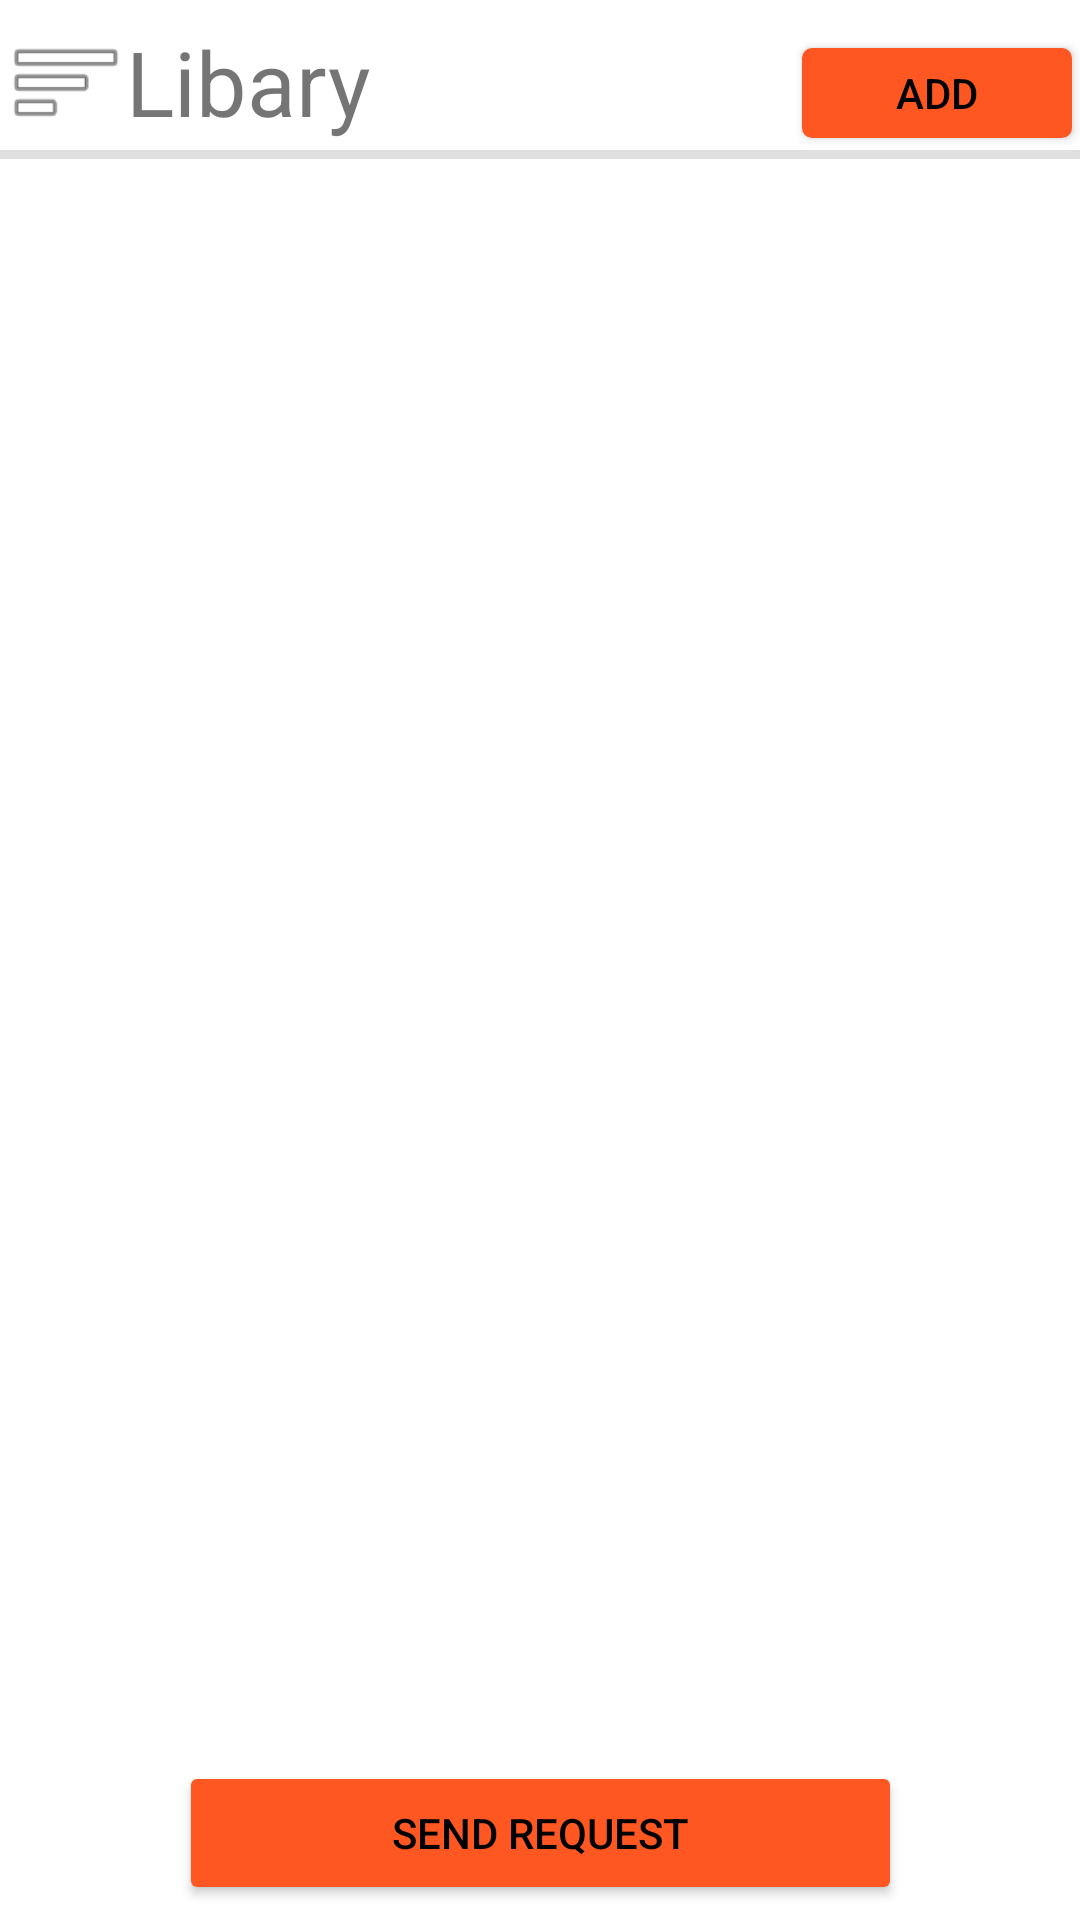

Where icons sit on this 1080*1920 app screen, as (x1, y1, x2, y2):
sort by size: (14, 49, 118, 116)
